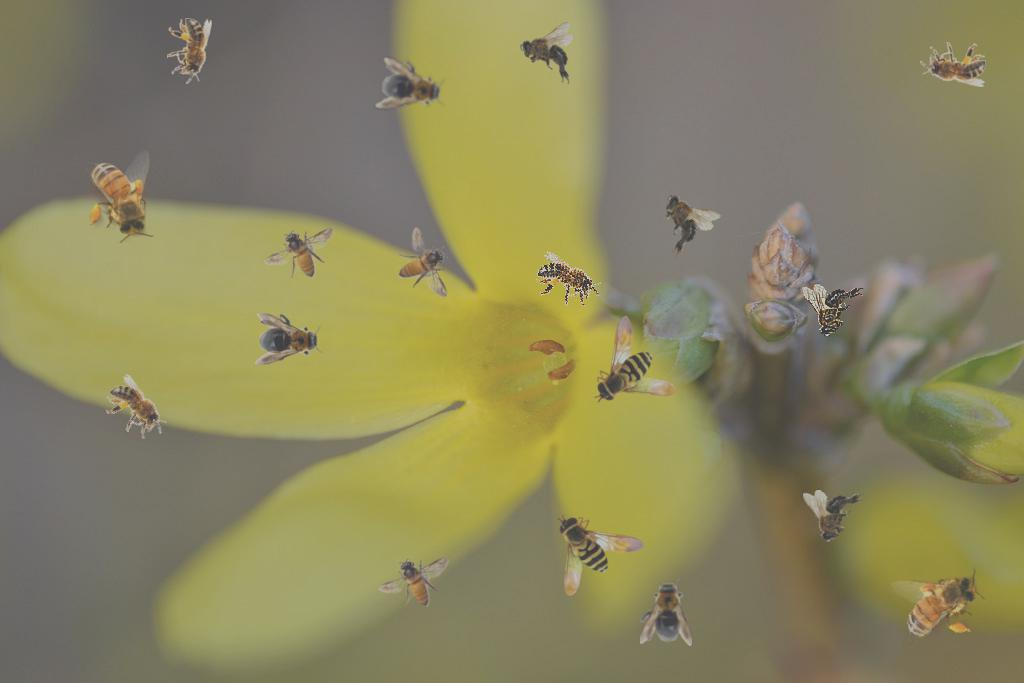Bee: (888, 566, 990, 645), (557, 514, 645, 596), (594, 315, 676, 403), (641, 179, 724, 261), (86, 150, 154, 243), (97, 372, 177, 449), (530, 250, 608, 315), (374, 56, 450, 118), (262, 227, 336, 280), (398, 227, 448, 298), (378, 557, 449, 607), (640, 578, 692, 646), (255, 313, 323, 365), (520, 22, 573, 84), (802, 284, 864, 337), (803, 490, 865, 543), (167, 18, 212, 84), (920, 42, 986, 87)
